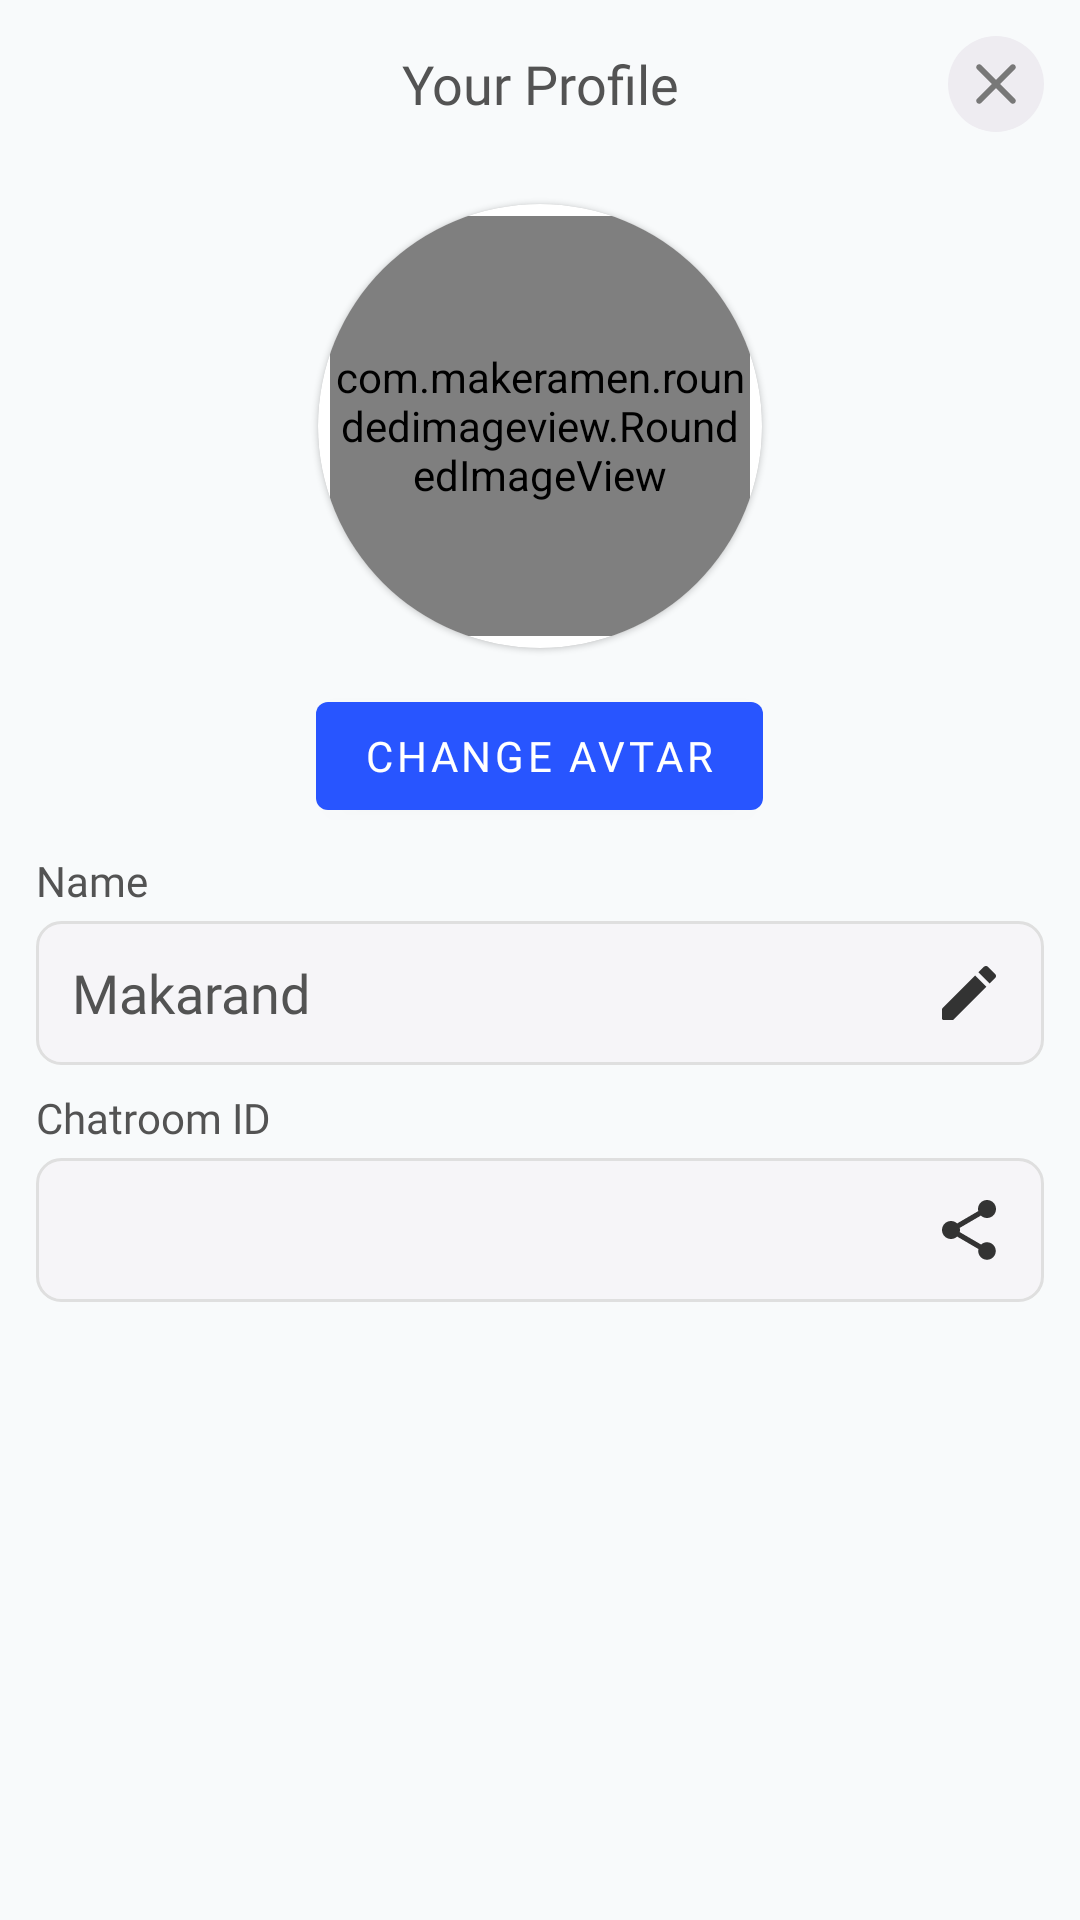

Icons on this 1080w x 1920h Android screen, each with the point to tap as (x,y):
close: (996,84)
create: (969,993)
share: (969,1230)
